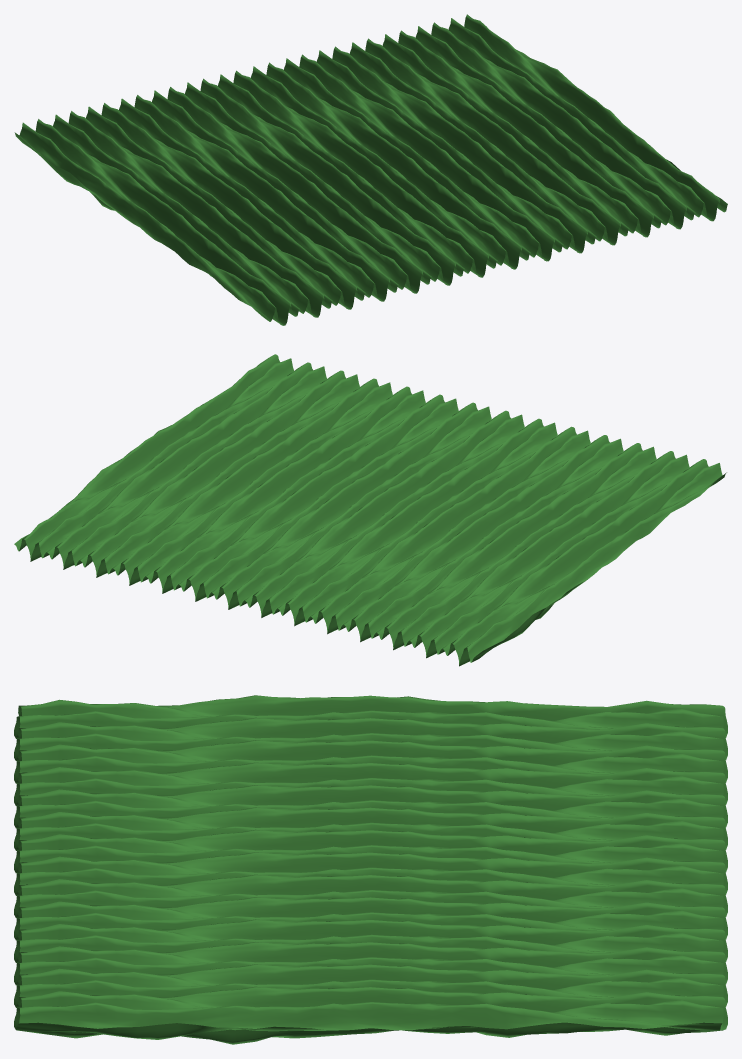
File: lettuce.fbx
3 renders of one model, top to bottom at view 1: azimuth 30°, elevation 25°; view 2: azimuth 150°, elevation 25°; view 3: azimuth 270°, elevation 25°, orthographic. The views are drawn at different scales.
Visible parts, largest first — view 1: lettuce; view 2: lettuce; view 3: lettuce.
Boxes of the visible parts, x1,y1,x2,y2 form: lettuce: [14, 14, 727, 325]; lettuce: [14, 354, 726, 666]; lettuce: [14, 695, 727, 1044].
Bounding box in the file's own units: 17.07 × 1.19 × 16.39.
